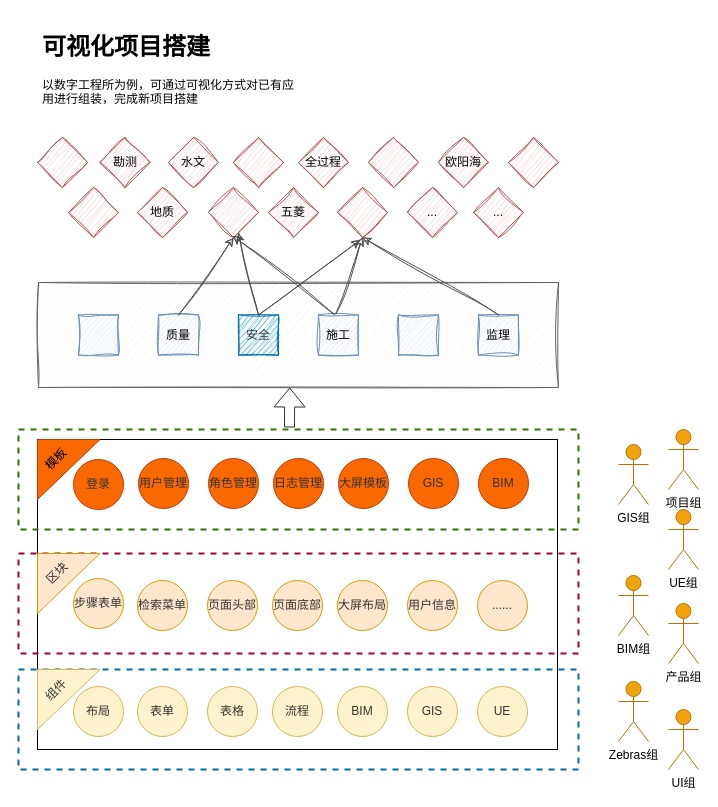
This 718x807 diagram has some shape labels left out. The centre of each missing label's shape, as x and y in pixels:
"五岳" goes at pixel 233 212.
"抽蓄" goes at pixel 362 212.
